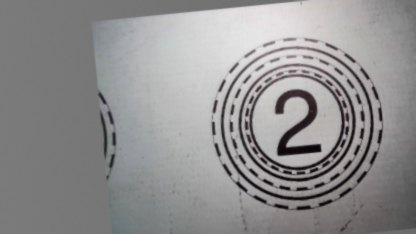2r: (204, 30, 390, 218)
